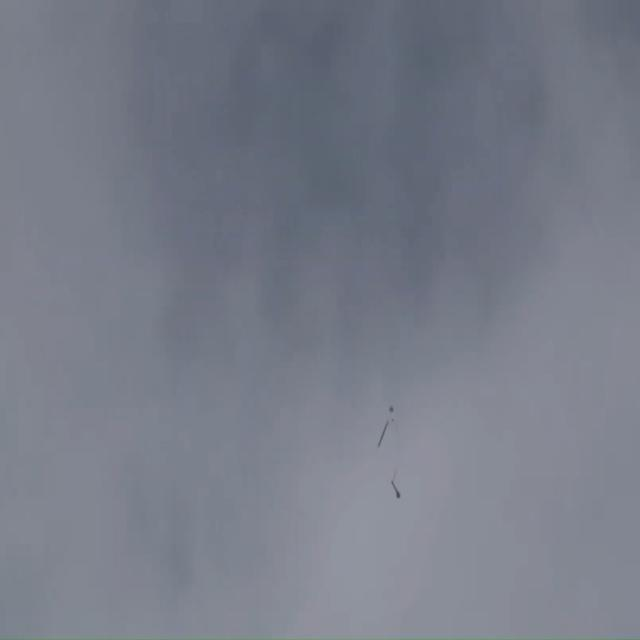Rocket: (392, 481, 400, 498)
